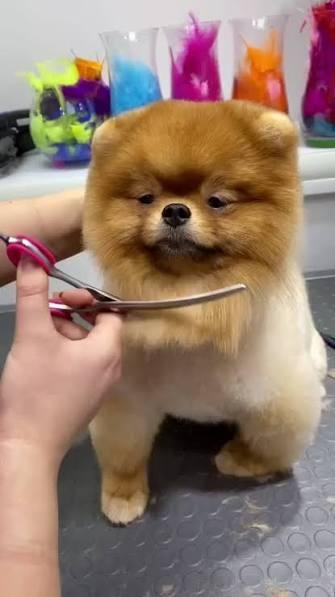adult_dog: (82, 96, 328, 526)
